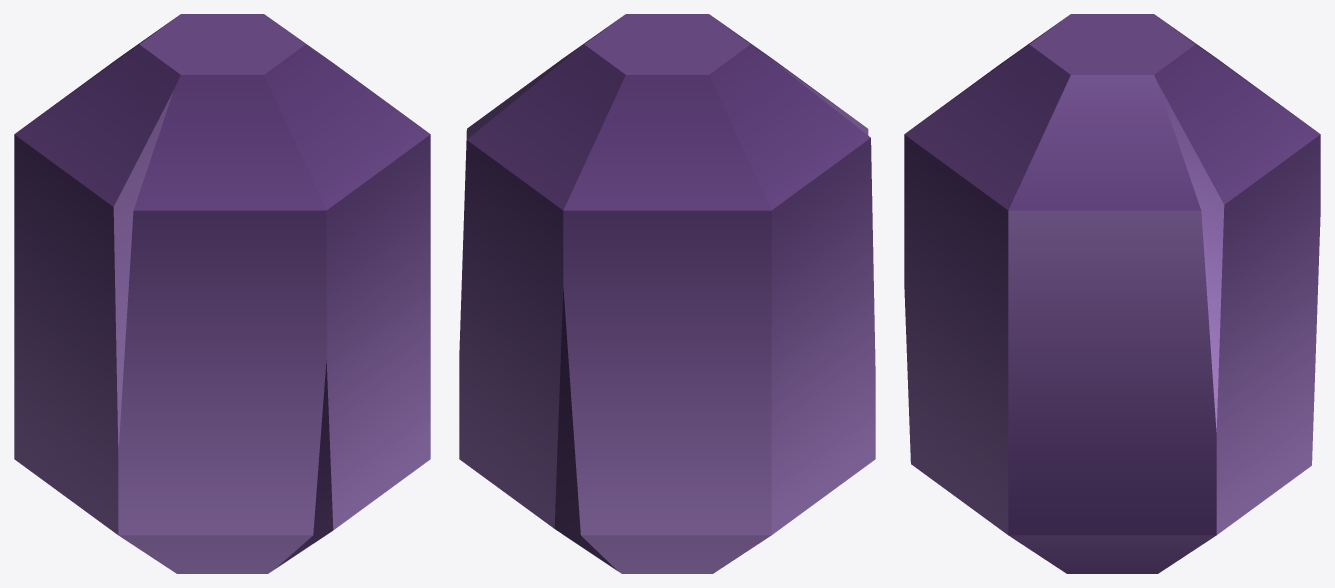
File: Violet_stone_farm.fbx
3 views of the same model, side by side, from view 1: azimuth 30°, elevation 25°; view 2: azimuth 150°, elevation 25°; view 3: azimuth 270°, elevation 25° (orthographic).
Visible parts, largest first — view 1: Cylinder.003; view 2: Cylinder.003; view 3: Cylinder.003.
Part boxes in pixels (x1,y1,x2,y2): Cylinder.003: [14, 14, 430, 573]; Cylinder.003: [459, 14, 875, 573]; Cylinder.003: [904, 14, 1320, 573].
Size of the model in its own units: 0.5529 by 0.6384 by 0.8393.
